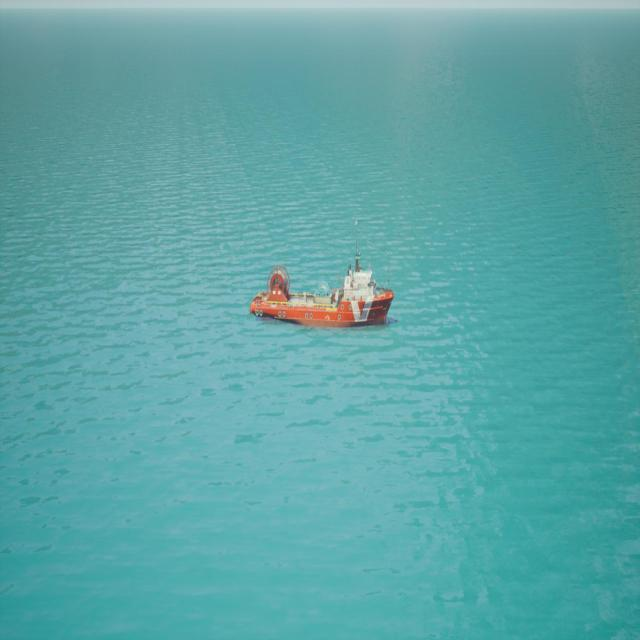tug boat: (251, 221, 398, 334)
